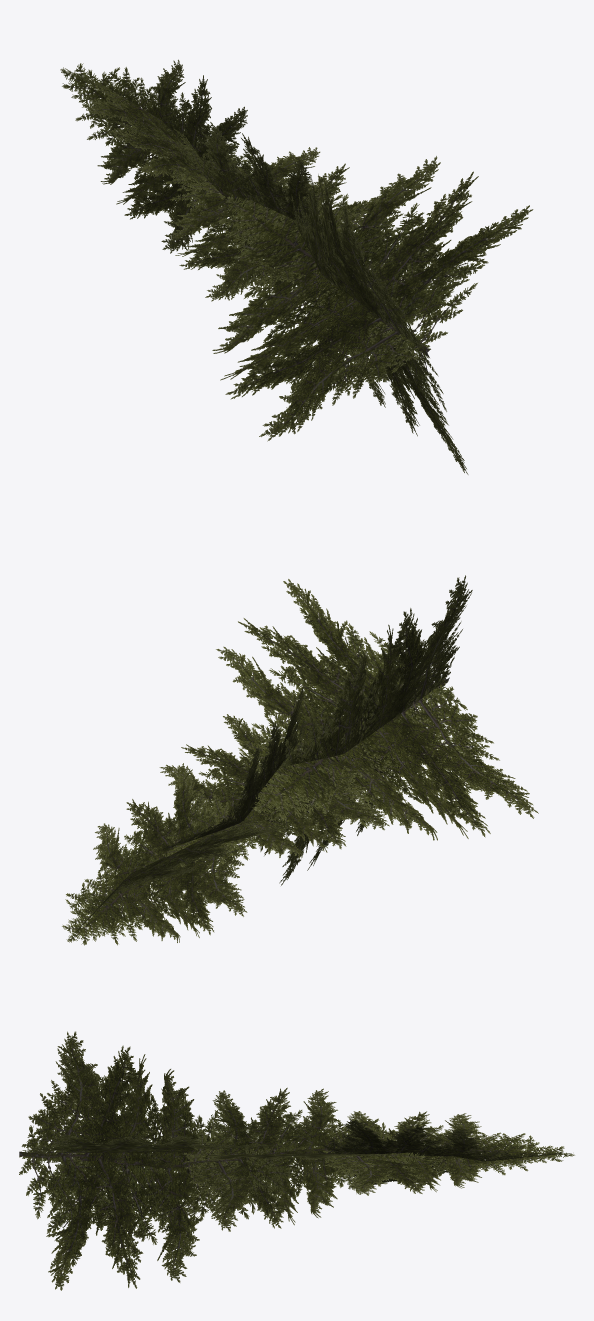
The model's file is MEP_Con_01_a_LOD_01.fbx.
The picture shows the model from 3 angles, top to bottom: view 1: azimuth 30°, elevation 25°; view 2: azimuth 150°, elevation 25°; view 3: azimuth 270°, elevation 25°; orthographic projection. The views are drawn at different scales.
Visible parts, largest first — view 1: MEP_Con_01_a_LOD_01; view 2: MEP_Con_01_a_LOD_01; view 3: MEP_Con_01_a_LOD_01.
Boxes of the visible parts, box(x1,y1,x2,y2) form: MEP_Con_01_a_LOD_01: box(60, 59, 533, 474); MEP_Con_01_a_LOD_01: box(62, 575, 538, 945); MEP_Con_01_a_LOD_01: box(19, 1031, 574, 1290).
Bounding box in the file's own units: 4.94 × 5.38 × 11.47.
